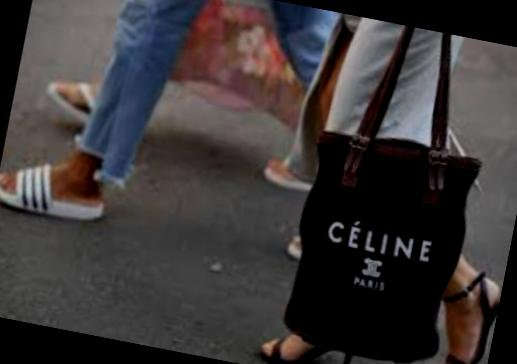CELINE: (325, 214, 434, 262)
